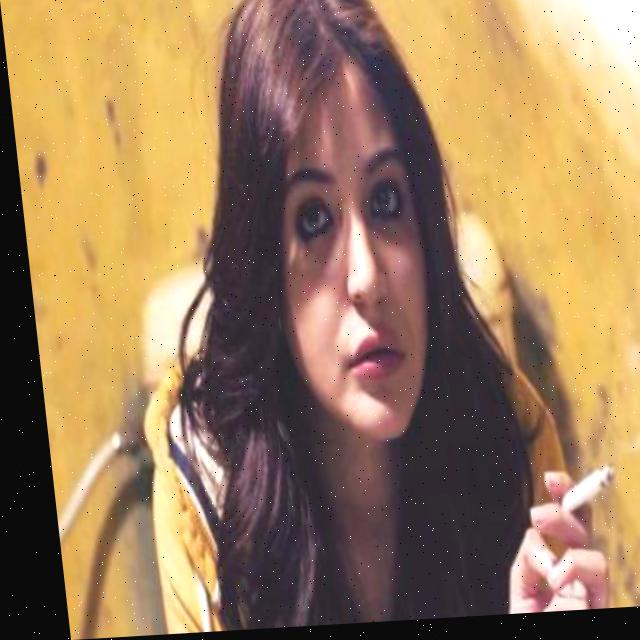cigarette: (546, 471, 610, 521)
